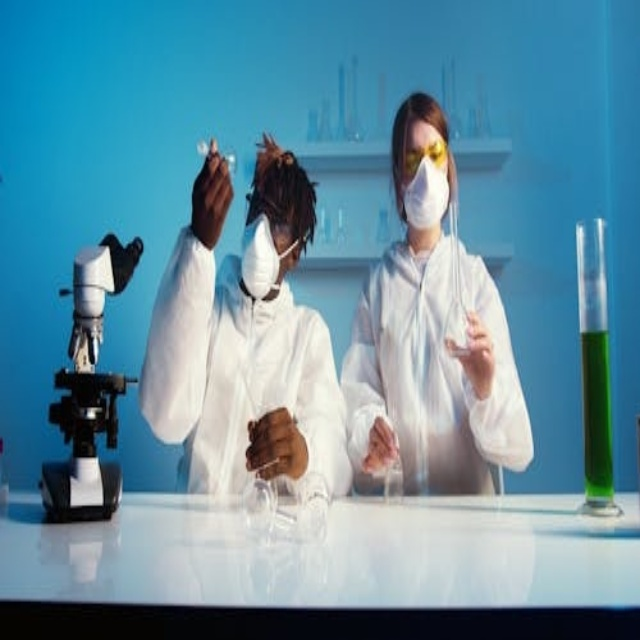Gafas: (239, 180, 310, 246), (394, 134, 454, 175)
Mascara: (241, 213, 301, 299), (401, 152, 450, 231)
Sin_guantes: (189, 142, 235, 248), (246, 406, 305, 482), (446, 312, 495, 394), (358, 411, 400, 475)
